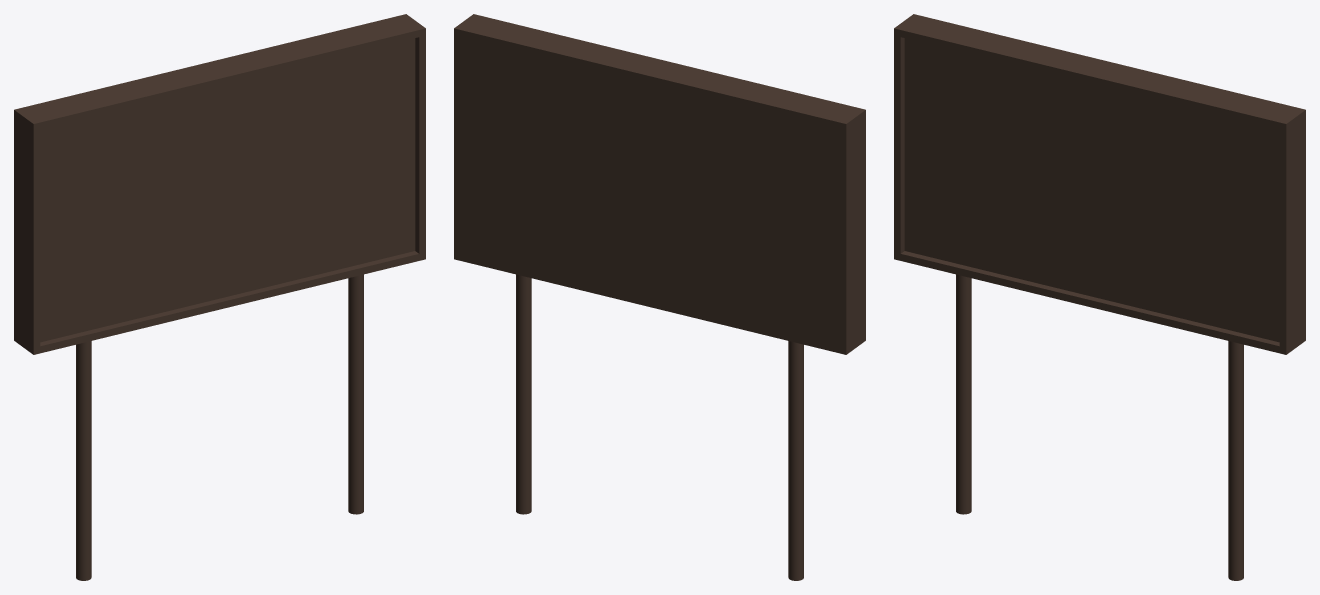
Rendered from hansol-pan.gltf.
The picture shows the model from 3 angles, left to right: view 1: azimuth 30°, elevation 25°; view 2: azimuth 150°, elevation 25°; view 3: azimuth 330°, elevation 25°; orthographic projection.
Parts seen in each view (by area): view 1: PAN; view 2: PAN; view 3: PAN.
Part boxes in pixels (x1,y1,x2,y2): PAN: (14, 14, 425, 580); PAN: (454, 14, 865, 580); PAN: (894, 14, 1305, 580).
Bounding box in the file's own units: 0.0576 × 0.0667 × 0.005.
1 material, 1 textured.
